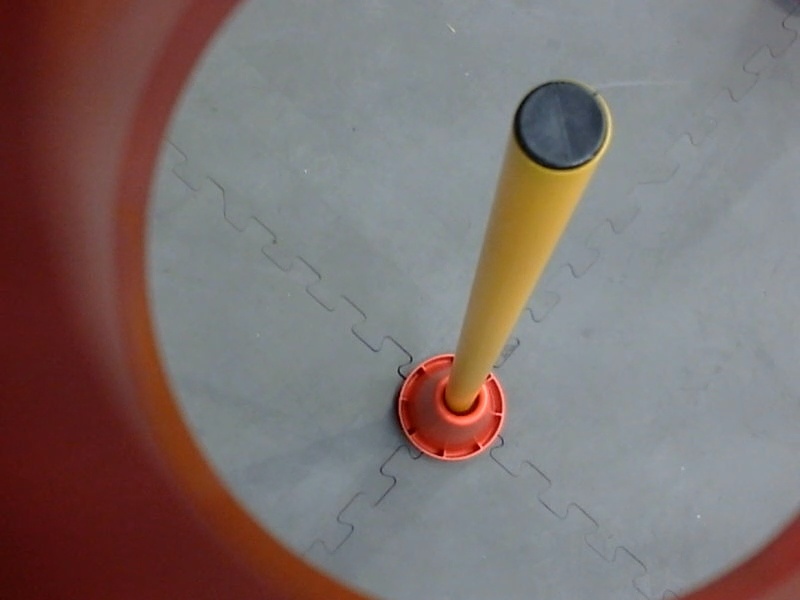tip: (503, 68, 620, 181)
